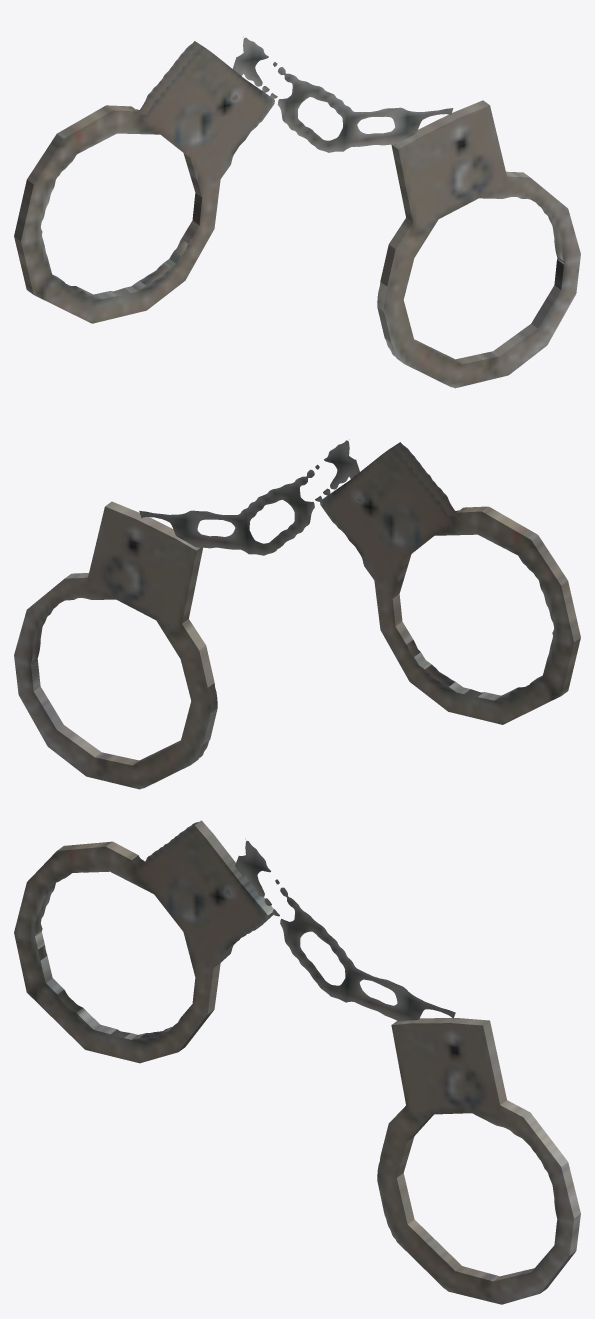
The model's file is bdsm_handcuffs.FBX.
3 views of the same model, one above another, from view 1: azimuth 30°, elevation 25°; view 2: azimuth 150°, elevation 25°; view 3: azimuth 330°, elevation 25° (orthographic).
Visible parts, largest first — view 1: bdsm_handcuffs; view 2: bdsm_handcuffs; view 3: bdsm_handcuffs.
Part boxes in pixels (box(x1,y1,x2,y2)): bdsm_handcuffs: box(14, 36, 580, 388); bdsm_handcuffs: box(14, 439, 580, 789); bdsm_handcuffs: box(14, 820, 580, 1304).
Size of the model in its own units: 47.05 by 33.69 by 1.01.
